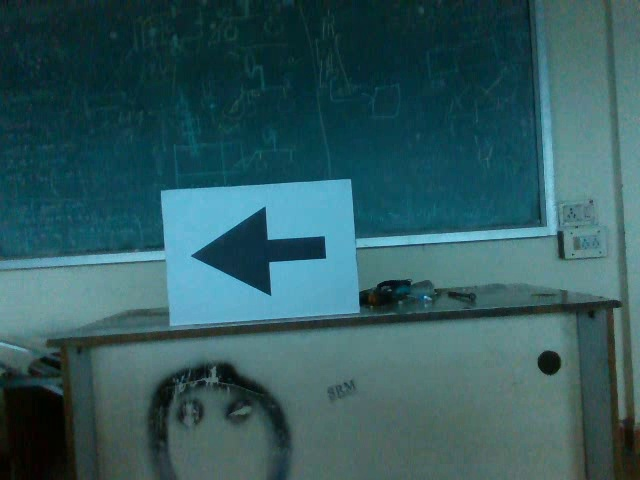Left: (183, 202, 330, 302)
